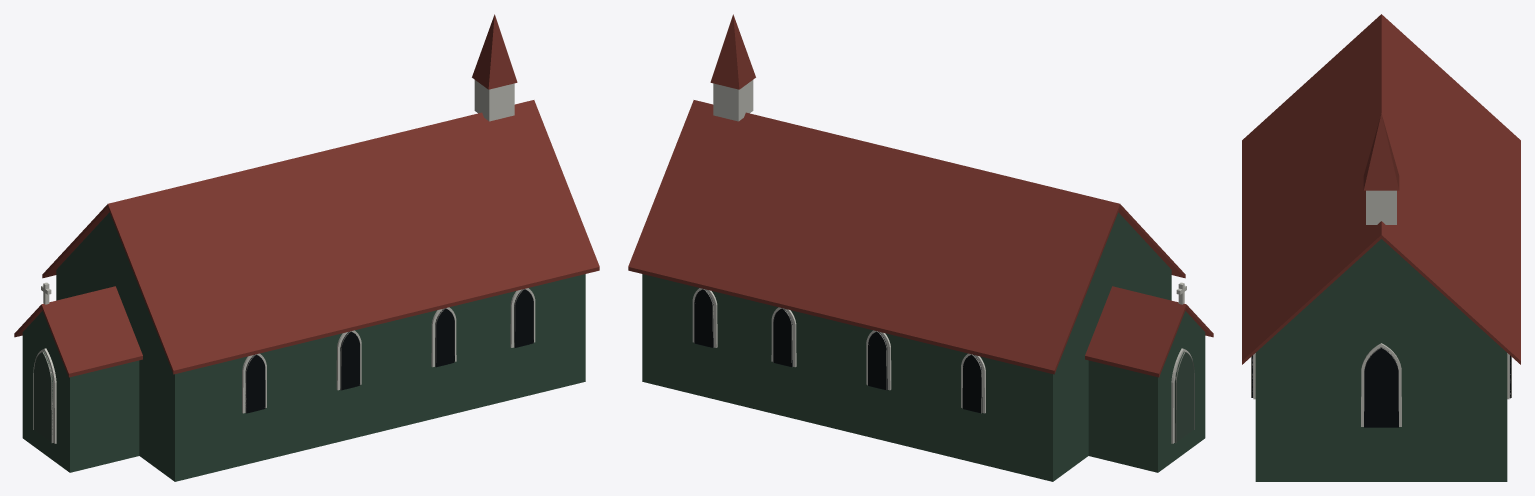
File: context.church.se_tin.glb
The picture shows the model from 3 angles, left to right: view 1: azimuth 30°, elevation 25°; view 2: azimuth 150°, elevation 25°; view 3: azimuth 270°, elevation 25°; orthographic projection. The views are drawn at different scales.
Visible parts, largest first — view 1: main__clad_733, main__clad_354, main__glass_dark, main__timber_ccb, main__timber_344, main__timber_998; view 2: main__clad_733, main__clad_354, main__glass_dark, main__timber_ccb, main__timber_344, main__timber_998; view 3: main__clad_733, main__clad_354, main__glass_dark, main__timber_ccb.
Boxes of the visible parts, x1=… form: main__clad_733: x1=14, y1=14, x2=599, y2=377; main__clad_354: x1=22, y1=212, x2=585, y2=481; main__glass_dark: x1=245, y1=289, x2=533, y2=413; main__timber_ccb: x1=35, y1=80, x2=535, y2=443; main__timber_344: x1=34, y1=351, x2=52, y2=442; main__timber_998: x1=33, y1=289, x2=533, y2=442; main__clad_733: x1=628, y1=14, x2=1213, y2=377; main__clad_354: x1=642, y1=212, x2=1205, y2=481; main__glass_dark: x1=694, y1=289, x2=982, y2=413; main__timber_ccb: x1=692, y1=80, x2=1192, y2=443; main__timber_344: x1=1175, y1=351, x2=1193, y2=442; main__timber_998: x1=694, y1=289, x2=1194, y2=442; main__clad_733: x1=1242, y1=14, x2=1520, y2=364; main__clad_354: x1=1255, y1=239, x2=1507, y2=481; main__glass_dark: x1=1252, y1=347, x2=1510, y2=427; main__timber_ccb: x1=1253, y1=190, x2=1509, y2=426.
Size of the model in its own units: 15.6 by 10.05 by 7.2.
